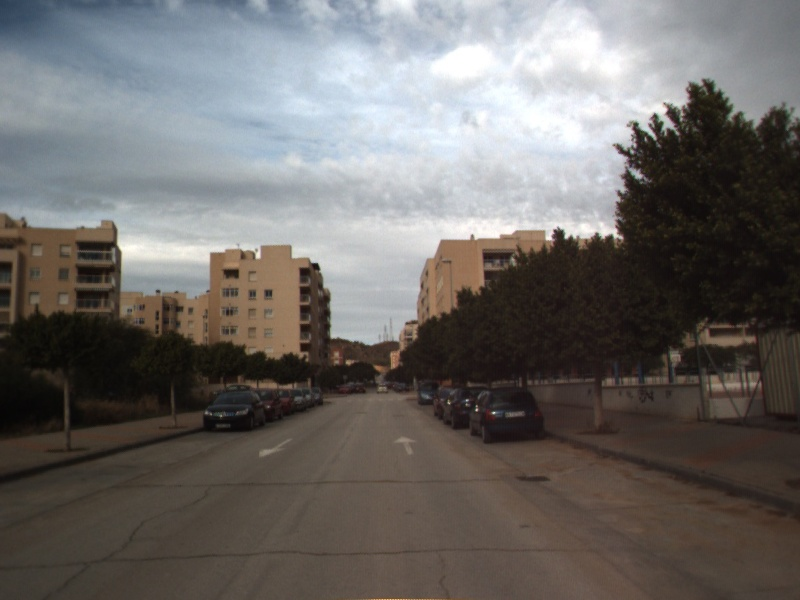STRAIGHT: (391, 434, 420, 457)
